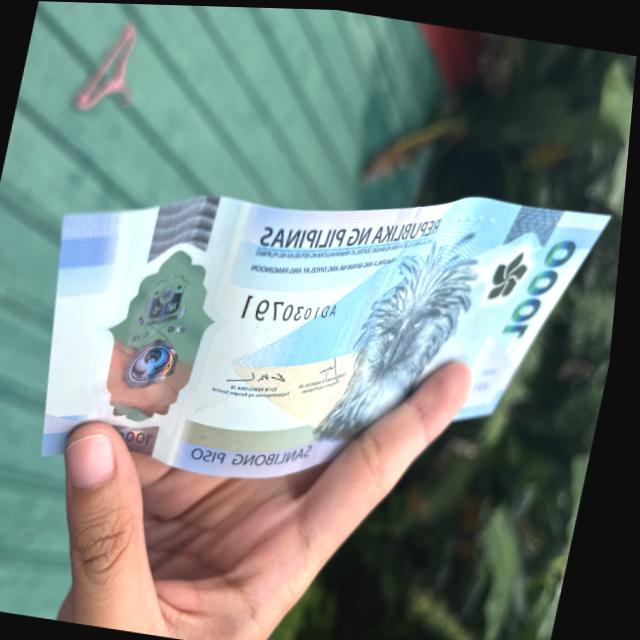clear_window: (110, 250, 231, 442)
eagle: (323, 235, 496, 440)
sampaguita: (474, 238, 538, 339)
serial_number: (231, 279, 357, 329)
value_watermark: (124, 424, 165, 451)
